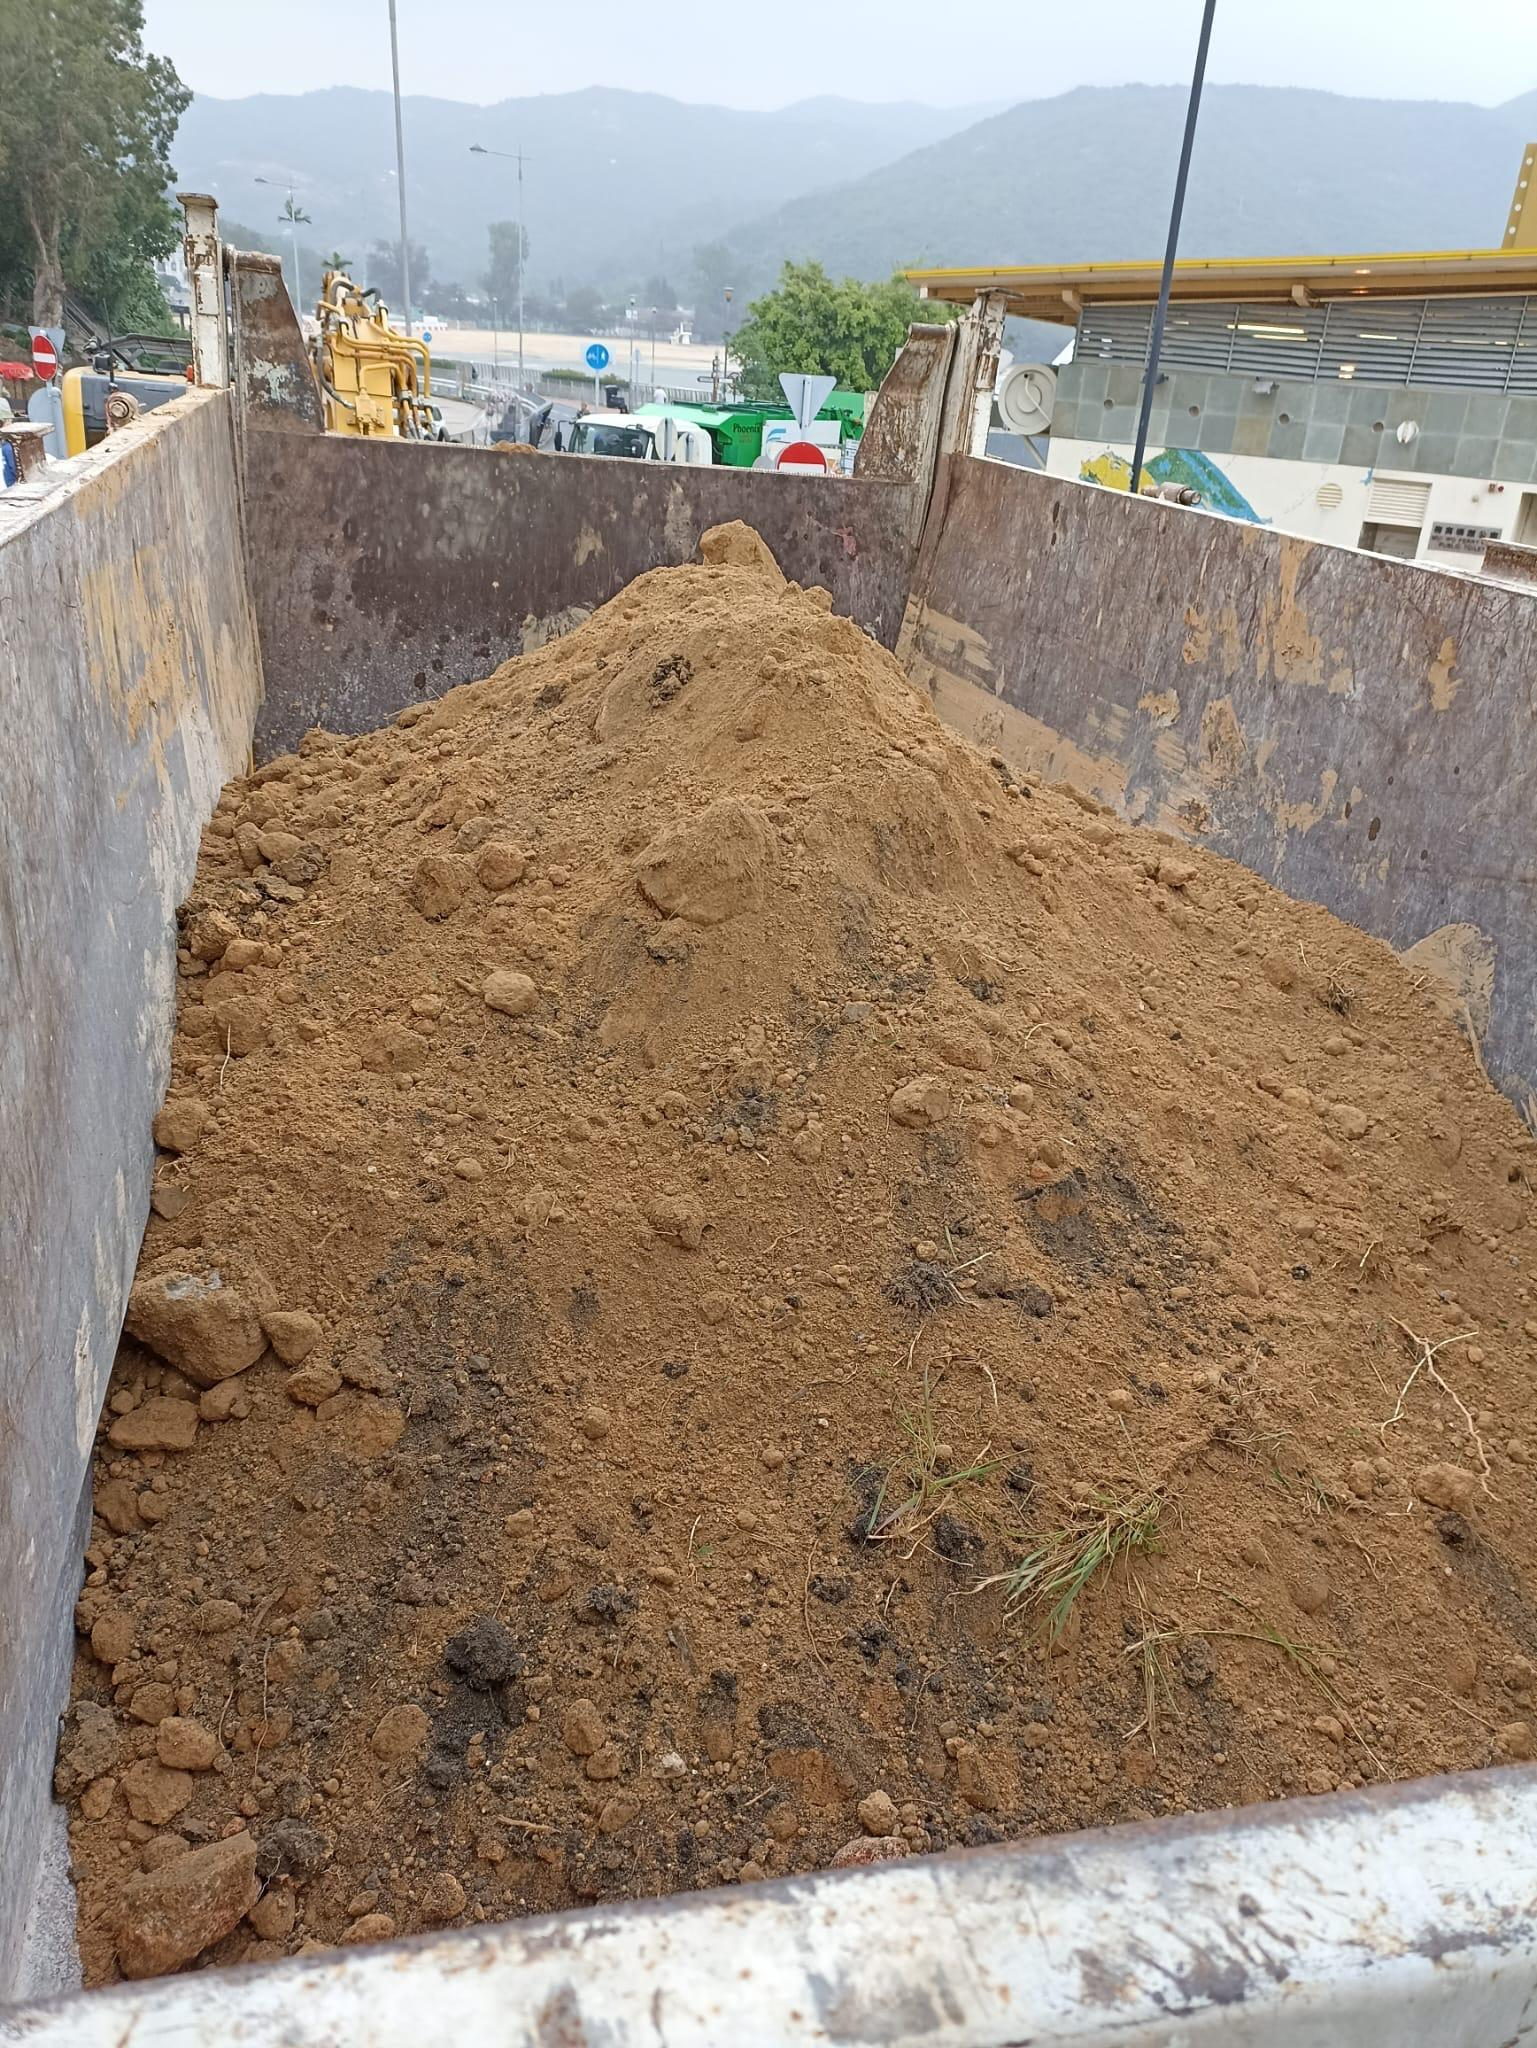dry: (40, 560, 1524, 1959)
